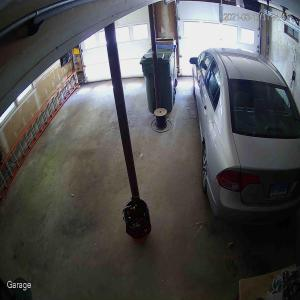garbage bin: (140, 44, 178, 113)
honda civic: (189, 47, 300, 226)
tool bucket: (122, 195, 152, 243)
